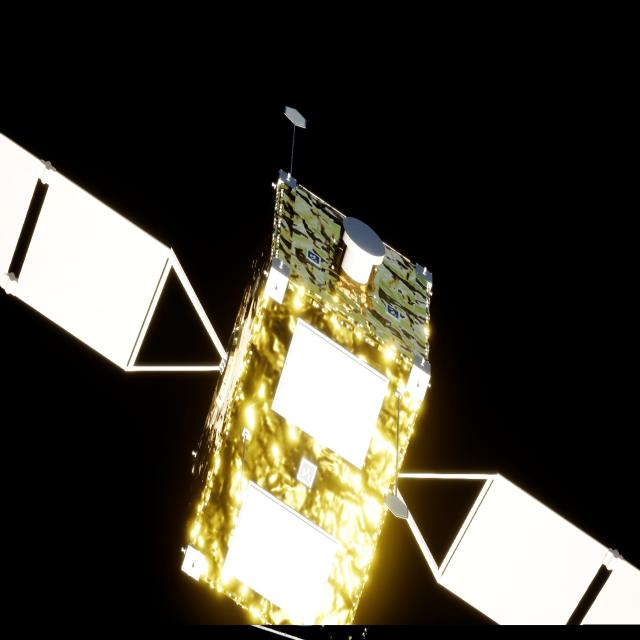medium_debris: (0, 133, 640, 627)
